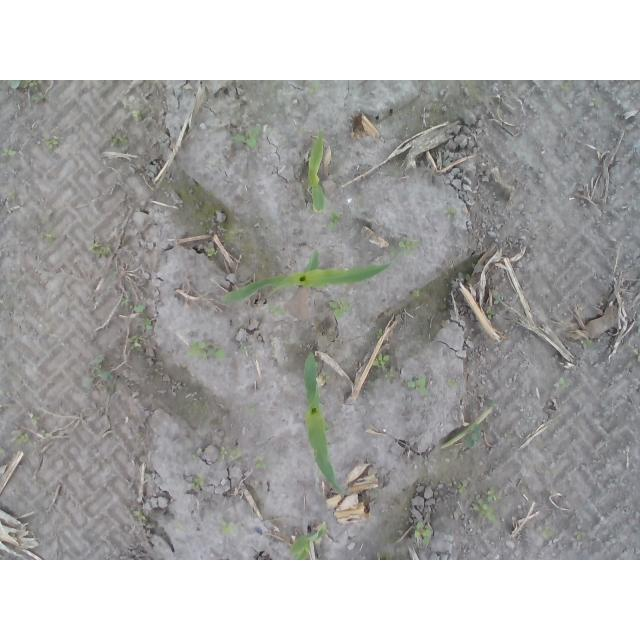Maize: (227, 250, 392, 304), (302, 351, 343, 491), (308, 135, 328, 213), (286, 526, 326, 560)
Weeds: (7, 80, 50, 104), (470, 487, 499, 522), (183, 338, 226, 358), (231, 127, 262, 154), (84, 367, 113, 393), (327, 296, 352, 321), (388, 239, 418, 258), (406, 376, 431, 397), (415, 521, 434, 545), (88, 239, 113, 257), (327, 207, 344, 233), (464, 424, 480, 449), (265, 302, 287, 318), (42, 134, 59, 152), (219, 448, 242, 461), (223, 520, 240, 537), (373, 352, 391, 368), (127, 336, 143, 353), (191, 472, 207, 488), (16, 431, 33, 445), (111, 131, 128, 145), (0, 147, 16, 160), (46, 228, 58, 245), (131, 109, 145, 123), (133, 510, 148, 523), (256, 454, 268, 470), (591, 97, 606, 108), (484, 308, 496, 321), (560, 80, 573, 92), (578, 339, 593, 349), (558, 376, 574, 385), (308, 82, 320, 94), (320, 371, 330, 385), (143, 318, 153, 331), (383, 372, 394, 383), (543, 528, 553, 540), (447, 379, 463, 386), (135, 303, 146, 313), (493, 295, 503, 306), (456, 484, 464, 497), (249, 403, 257, 416), (207, 248, 218, 257), (8, 191, 17, 202), (32, 415, 41, 425), (412, 287, 421, 297), (574, 532, 584, 541), (1, 448, 8, 459), (464, 272, 472, 281), (448, 208, 457, 216), (634, 351, 640, 363), (120, 298, 128, 304), (377, 328, 383, 336)
